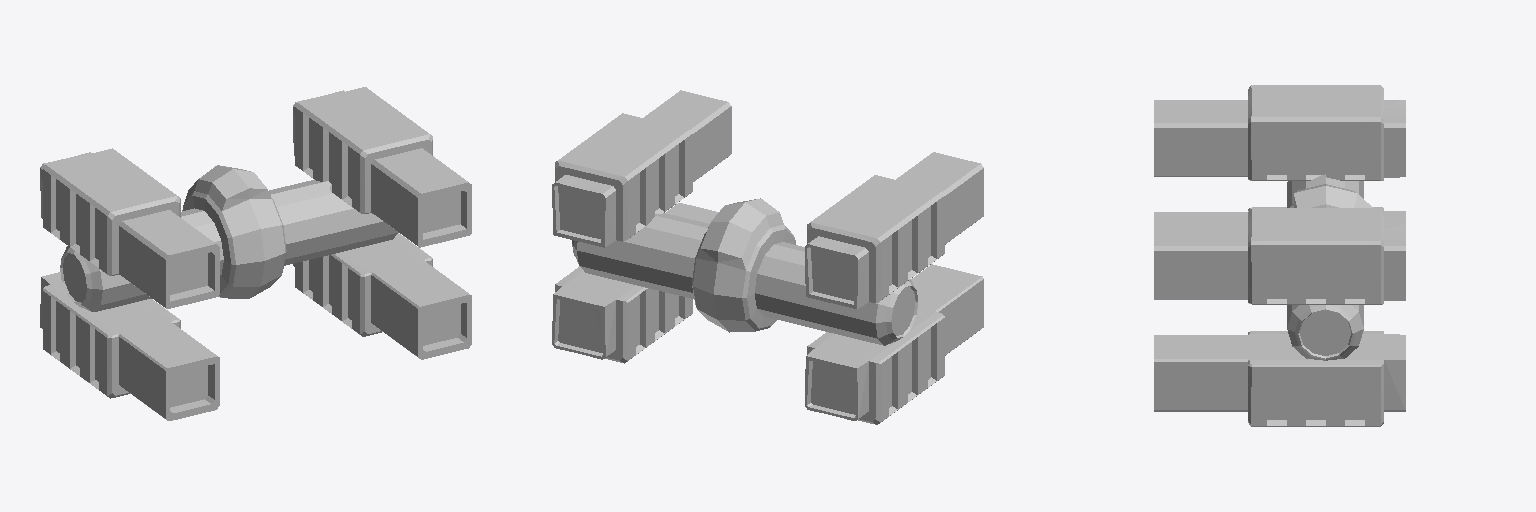
The model's file is secondaryrocket_textures.obj.
3 views of the same model, side by side, from view 1: azimuth 30°, elevation 25°; view 2: azimuth 150°, elevation 25°; view 3: azimuth 270°, elevation 25° (orthographic).
Visible parts, largest first — view 1: pCube3_pCube3, pCylinder1_pCylinder1; view 2: pCube3_pCube3, pCylinder1_pCylinder1; view 3: pCube3_pCube3, pCylinder1_pCylinder1.
Boxes of the visible parts, <box> form: pCube3_pCube3: <box>40,87,471,420</box>; pCylinder1_pCylinder1: <box>60,165,398,311</box>; pCube3_pCube3: <box>552,90,983,424</box>; pCylinder1_pCylinder1: <box>572,198,917,345</box>; pCube3_pCube3: <box>1154,85,1405,426</box>; pCylinder1_pCylinder1: <box>1287,174,1372,360</box>.
Bounding box in the file's own units: 9.78 × 5.36 × 6.53.